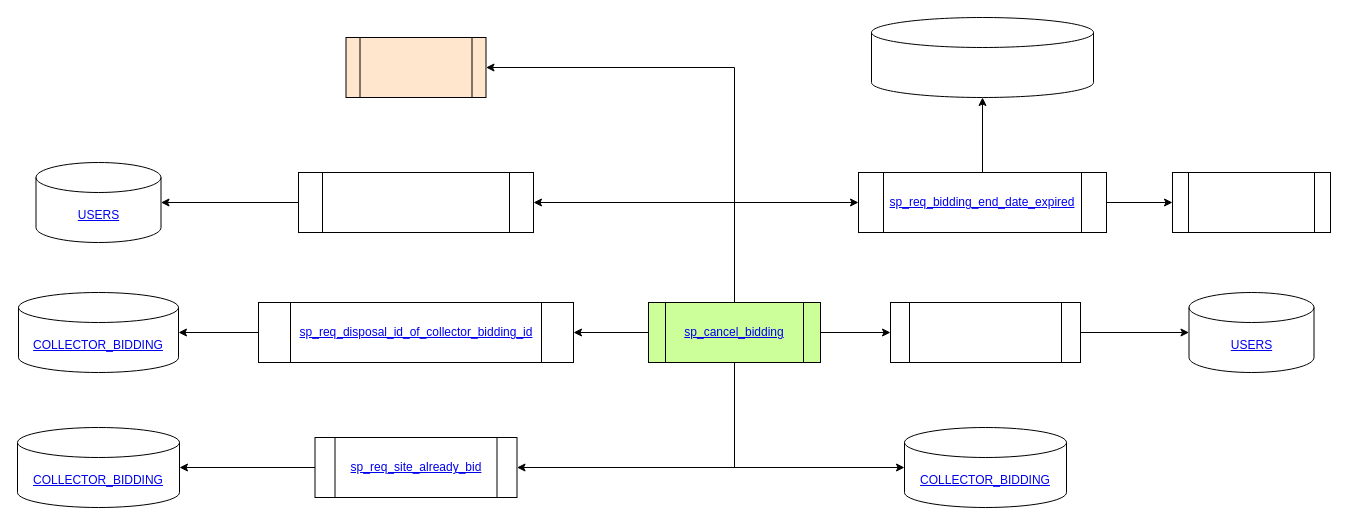
Image size: 1348x525. Some labels were removed from this diagram. Here are the shapes that lost their labels. From the top down, the box of each, then its label:
(345, 36, 486, 98): sp_return_results
(870, 16, 1094, 98): SITE_WSTE_DISPOSAL_ORDER
(298, 172, 534, 232): sp_req_site_id_of_user_reg_id
(1172, 172, 1330, 232): sp_req_current_time
(890, 302, 1080, 362): sp_req_user_exists_by_id
